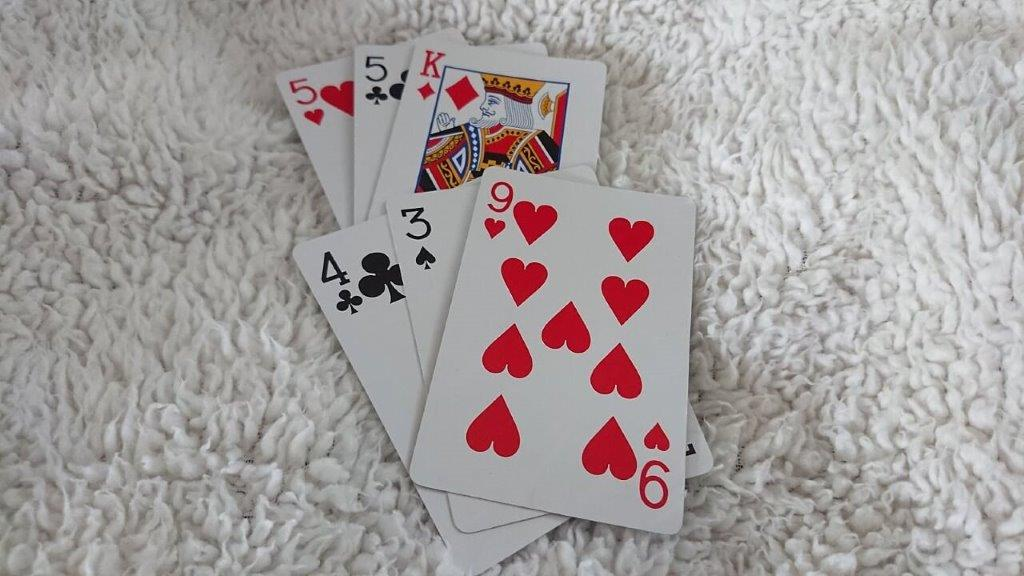3S: (394, 200, 444, 276)
4C: (310, 244, 368, 323)
5C: (360, 48, 393, 111)
5H: (284, 72, 331, 130)
9H: (478, 177, 523, 246)
KD: (414, 45, 451, 107)
